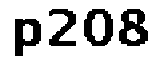0: (82, 7, 114, 48)
2: (46, 6, 78, 50)
8: (118, 7, 150, 49)
p: (10, 15, 44, 60)
